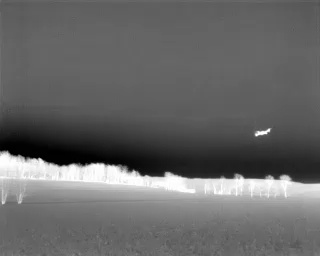DRONE: (250, 123, 276, 143)
